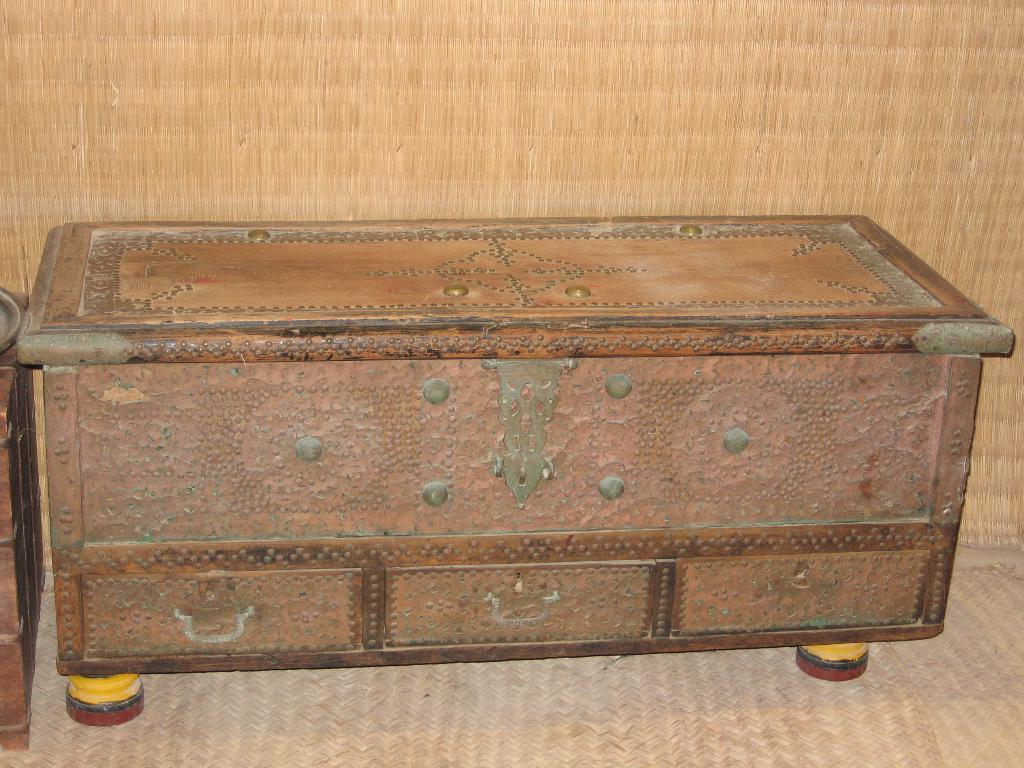cabinet_door: (86, 574, 364, 650), (388, 571, 652, 639), (684, 563, 916, 628)
handle: (177, 600, 257, 652), (480, 592, 562, 635)
